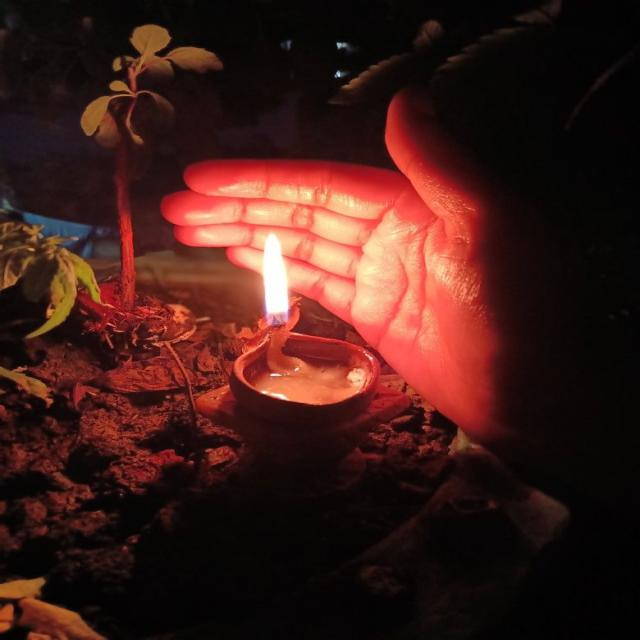fire: (260, 231, 292, 326)
